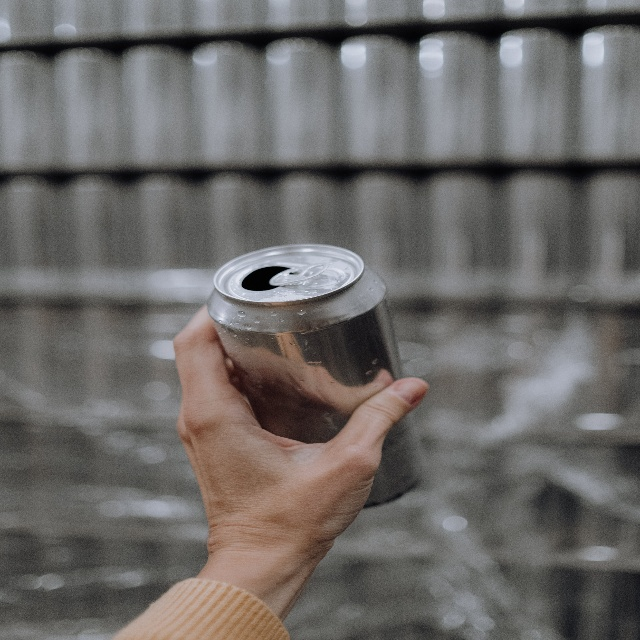Sin_guantes: (171, 305, 428, 563)
